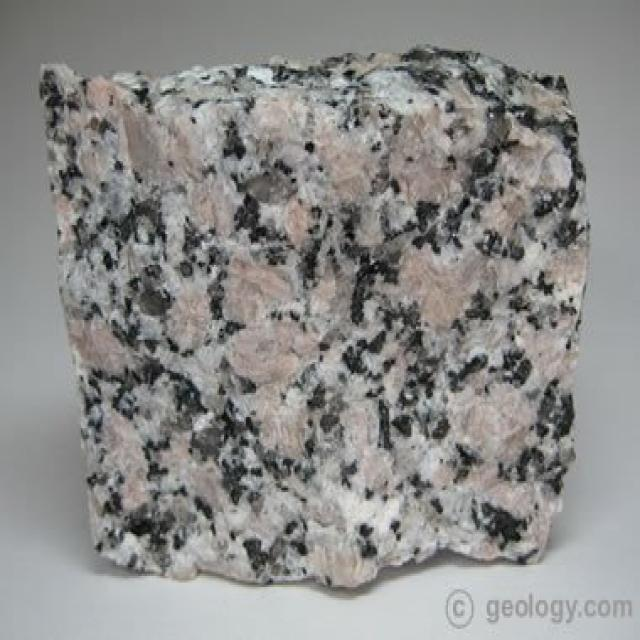Igneous: (25, 48, 598, 585)
